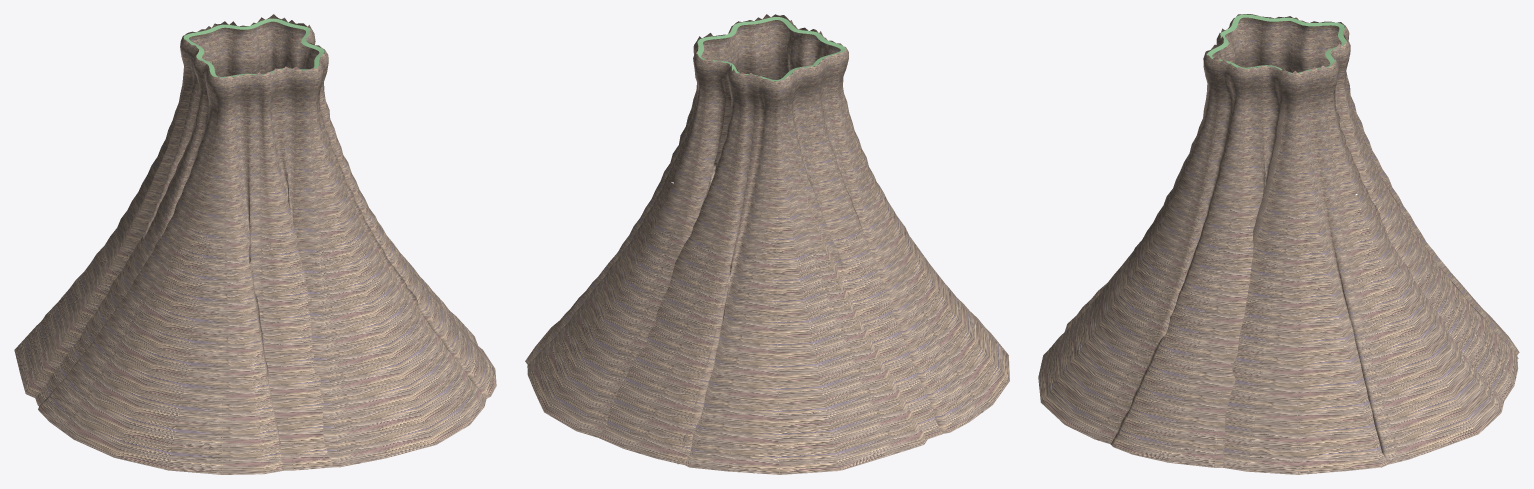
Rendered from CliffWall_stack_00.glb.
3 renders of one model, left to right at view 1: azimuth 30°, elevation 25°; view 2: azimuth 150°, elevation 25°; view 3: azimuth 270°, elevation 25°, orthographic.
Visible parts, largest first — view 1: CliffWall_stack_00-rock0, CliffWall_stack_00-lip0; view 2: CliffWall_stack_00-rock0, CliffWall_stack_00-lip0; view 3: CliffWall_stack_00-rock0, CliffWall_stack_00-lip0.
Boxes of the visible parts, x1,y1,x2,y2 form: CliffWall_stack_00-rock0: (14, 14, 496, 474); CliffWall_stack_00-lip0: (183, 18, 324, 78); CliffWall_stack_00-rock0: (525, 14, 1009, 474); CliffWall_stack_00-lip0: (696, 17, 846, 81); CliffWall_stack_00-rock0: (1038, 14, 1519, 474); CliffWall_stack_00-lip0: (1206, 14, 1346, 73).
Bounding box in the file's own units: 771 × 586 × 769.
Materials: 4 (1 with a texture image).
